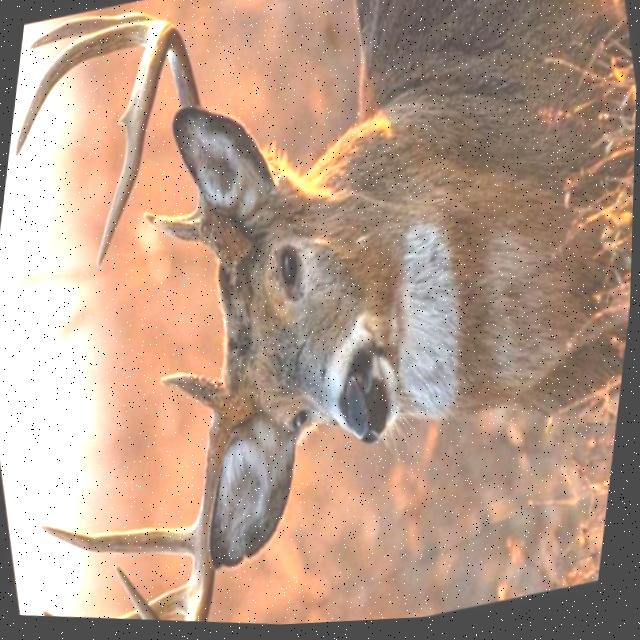L-G1: (145, 208, 205, 244)
L-G3: (16, 20, 151, 157)
R-G1: (162, 374, 229, 414)
R-G2: (42, 523, 198, 563)
